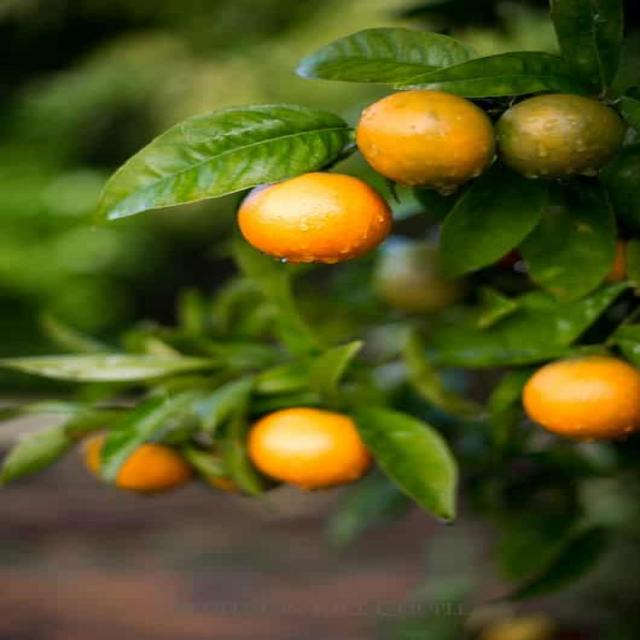10_tangerine: (237, 173, 396, 268), (351, 85, 498, 183), (247, 404, 377, 488), (523, 358, 640, 448)
